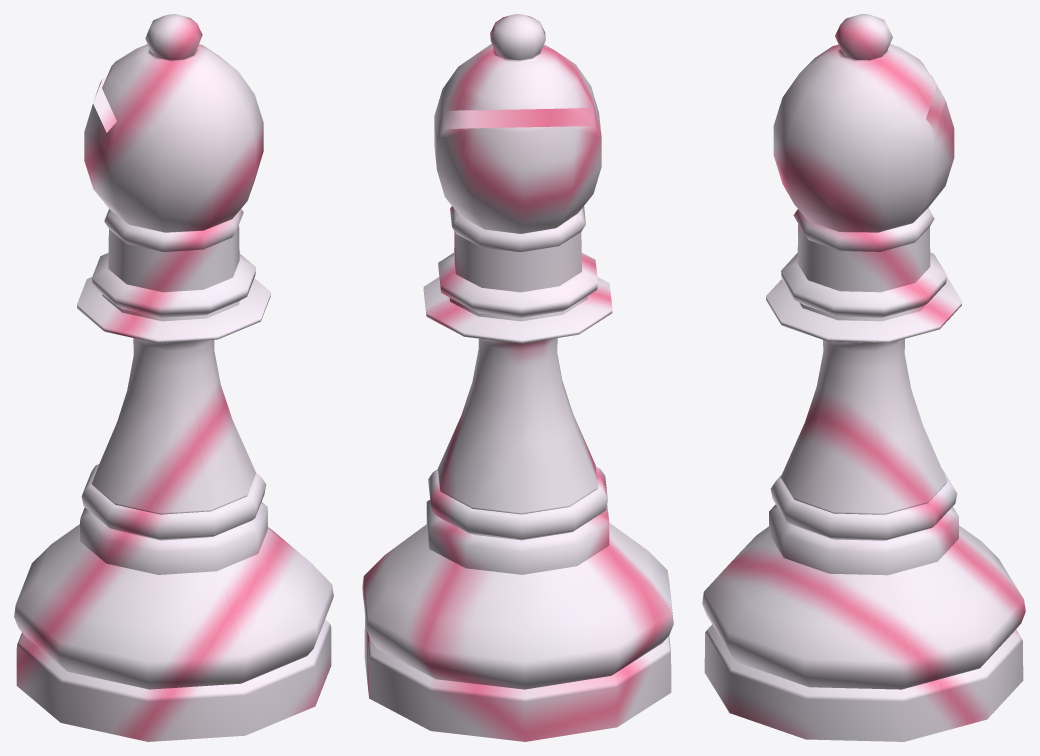
Rendered from item-2-4.glb.
The picture shows the model from 3 angles, left to right: view 1: azimuth 30°, elevation 25°; view 2: azimuth 150°, elevation 25°; view 3: azimuth 270°, elevation 25°; orthographic projection.
Parts seen in each view (by area): view 1: BlackBishop; view 2: BlackBishop; view 3: BlackBishop.
Part boxes in pixels (<box>): BlackBishop: <box>14,14,333,741</box>; BlackBishop: <box>362,14,673,741</box>; BlackBishop: <box>702,14,1025,741</box>.
Bounding box in the file's own units: 0.0928 × 0.2155 × 0.0958.
1 material, 1 textured.
